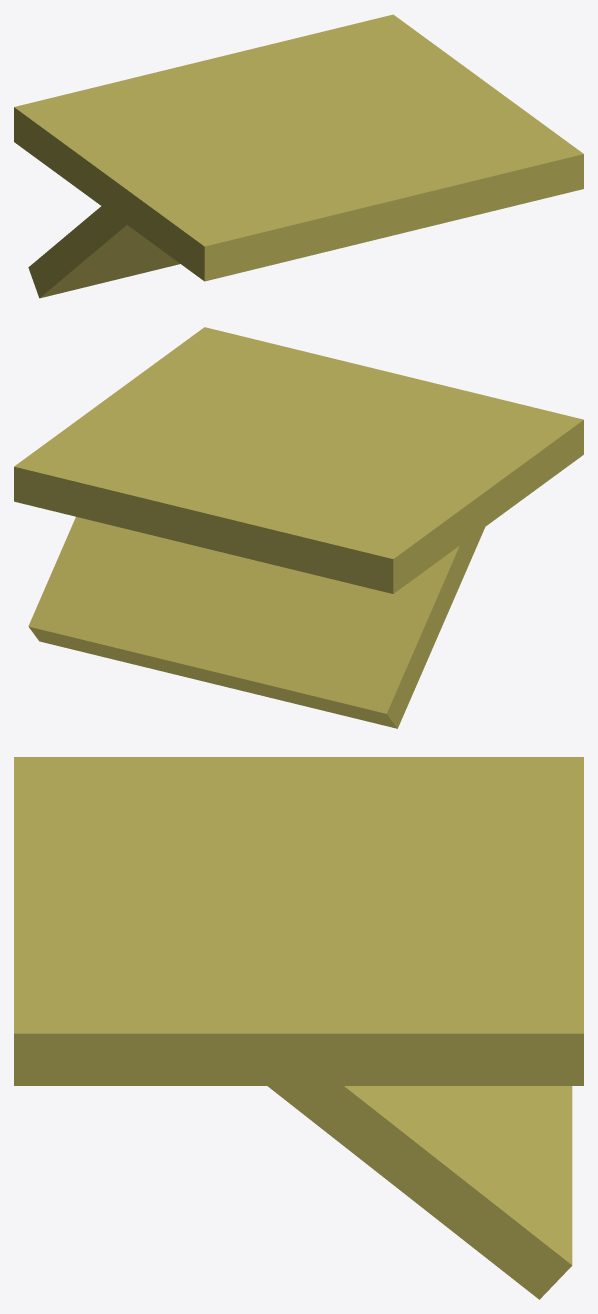
Rendered from shelf.fbx.
3 views of the same model, one above another, from view 1: azimuth 30°, elevation 25°; view 2: azimuth 150°, elevation 25°; view 3: azimuth 270°, elevation 25° (orthographic). The views are drawn at different scales.
Visible parts, largest first — view 1: Cube, Cube.001; view 2: Cube, Cube.001; view 3: Cube, Cube.001.
Boxes of the visible parts, bbox=[...] form: Cube: bbox=[14, 14, 583, 281]; Cube.001: bbox=[28, 206, 179, 298]; Cube: bbox=[14, 327, 583, 593]; Cube.001: bbox=[28, 517, 485, 728]; Cube: bbox=[14, 757, 583, 1085]; Cube.001: bbox=[267, 1086, 572, 1299].
Size of the model in its own units: 58 by 26.75 by 50.48.
